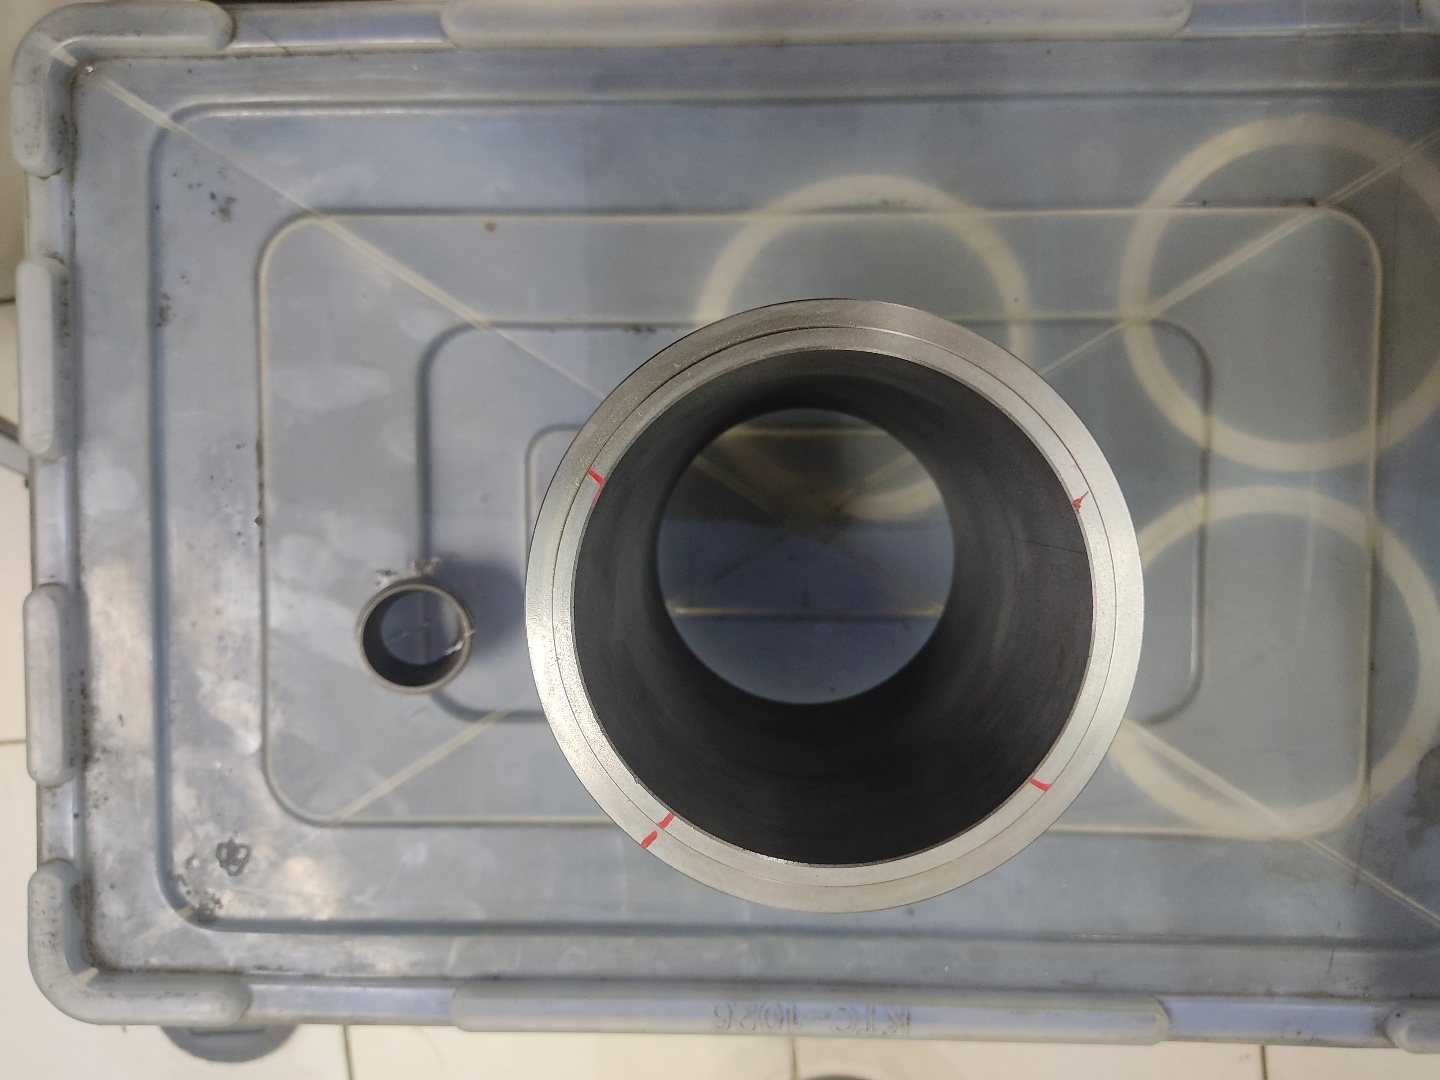cylinder: (518, 293, 1150, 921)
